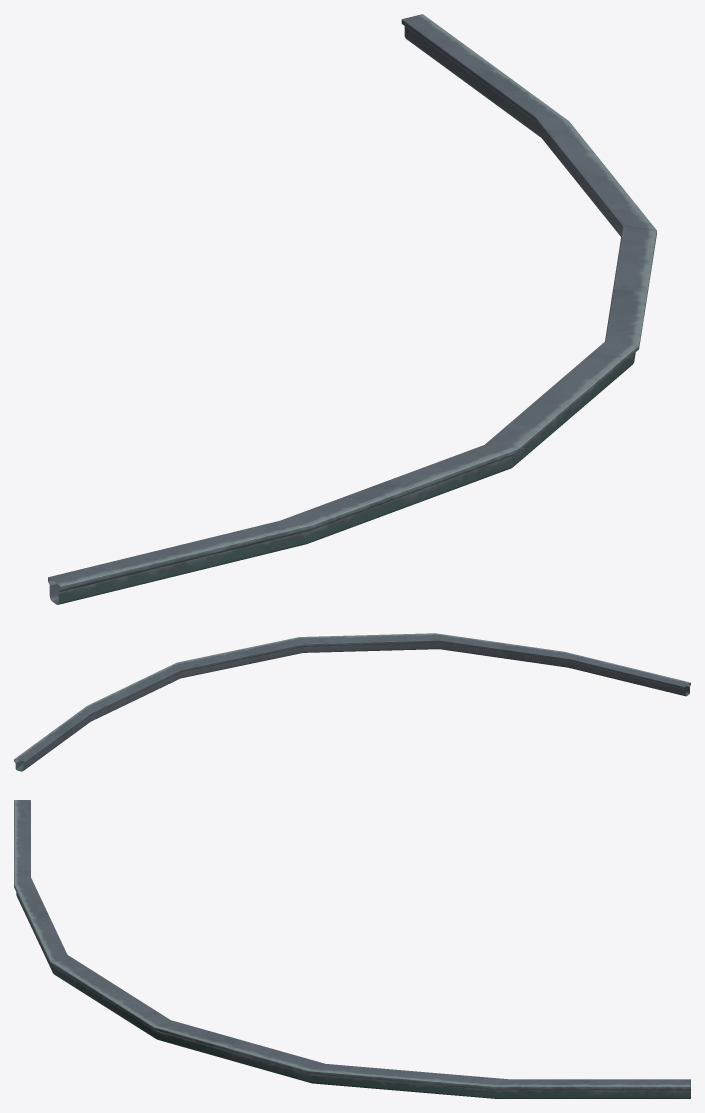
Rendered from Threshold_Curved.fbx.
The picture shows the model from 3 angles, top to bottom: view 1: azimuth 30°, elevation 25°; view 2: azimuth 150°, elevation 25°; view 3: azimuth 270°, elevation 25°; orthographic projection. The views are drawn at different scales.
Visible parts, largest first — view 1: Threshold_Curved; view 2: Threshold_Curved; view 3: Threshold_Curved.
Part boxes in pixels (x1,y1,x2,y2): Threshold_Curved: (48,14,656,604); Threshold_Curved: (14,633,690,771); Threshold_Curved: (14,800,690,1098).
Size of the model in its own units: 505 by 12.07 by 505.
1 material, 1 textured.
